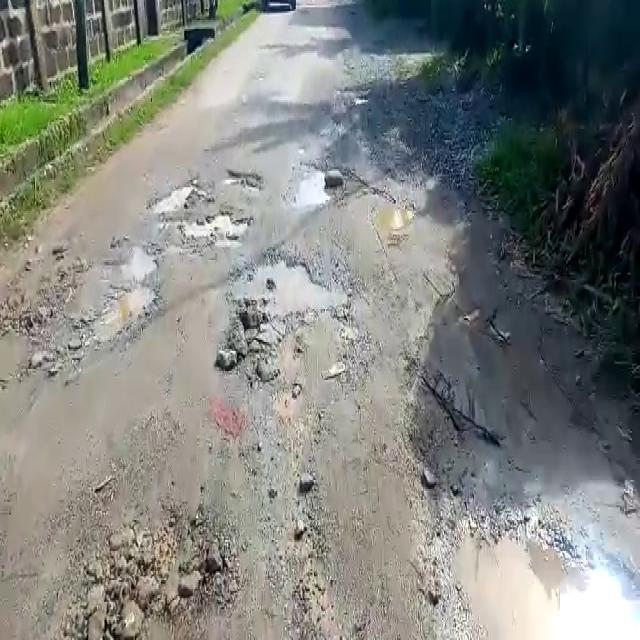Pothole: (446, 504, 640, 640), (73, 254, 161, 350), (234, 256, 353, 319), (185, 209, 251, 241), (146, 181, 200, 218), (289, 170, 335, 212), (222, 167, 264, 191)
